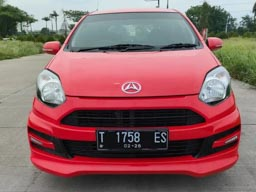plat: (96, 130, 168, 142)
